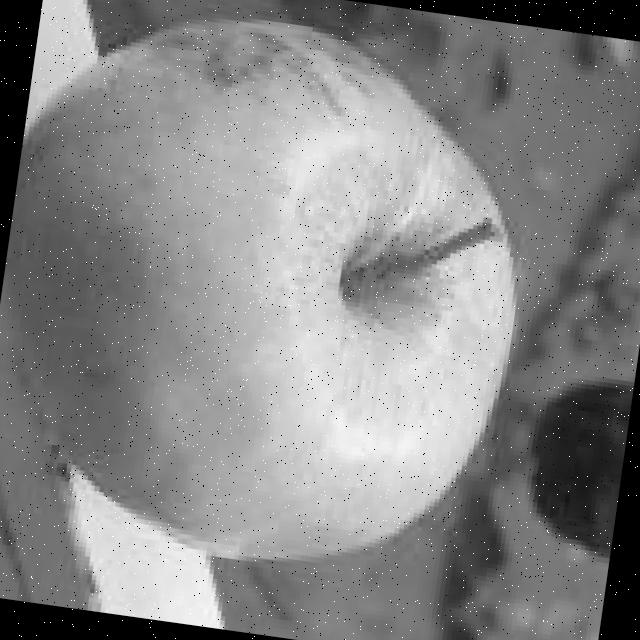Good_Apple 10-21 days: (7, 22, 515, 557)
